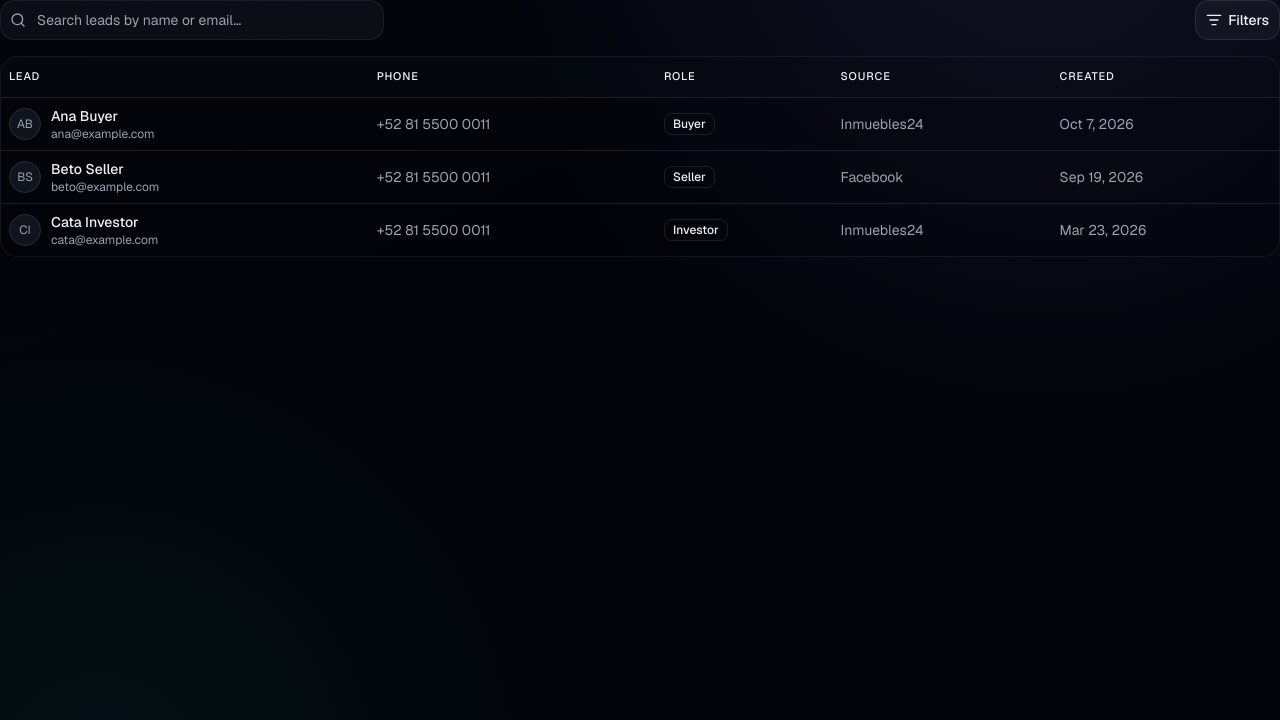
LeadsTable — secondary filters › opens a panel with role, source and created filters plus a clear button
Expected: the text "Ana Buyer" is shown, [51,106,118,124]
Click the button "Filters".
click(1238, 20)  # box [1195,0,1279,40]
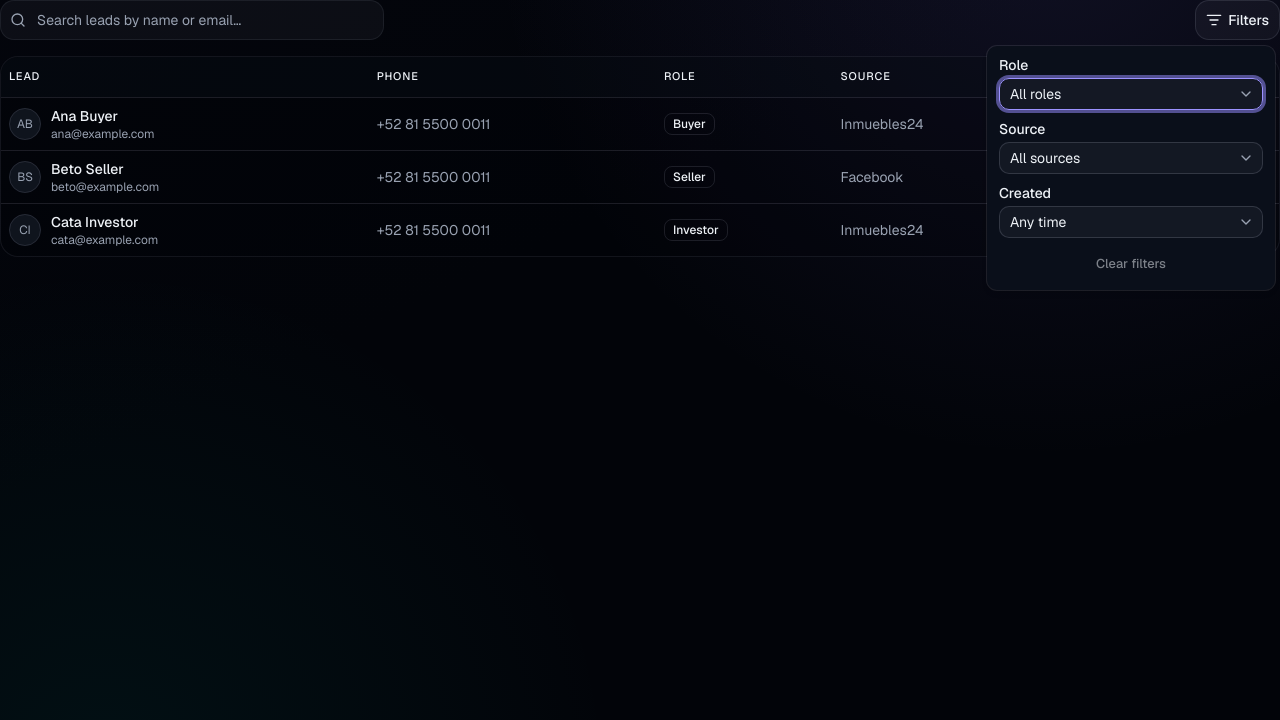
Expected: the dropdown labelled "role" is shown, [999,78,1263,110]
Expected: the dropdown labelled "source" is shown, [999,142,1263,174]
Expected: the dropdown named "Created" is shown, [999,206,1263,238]
